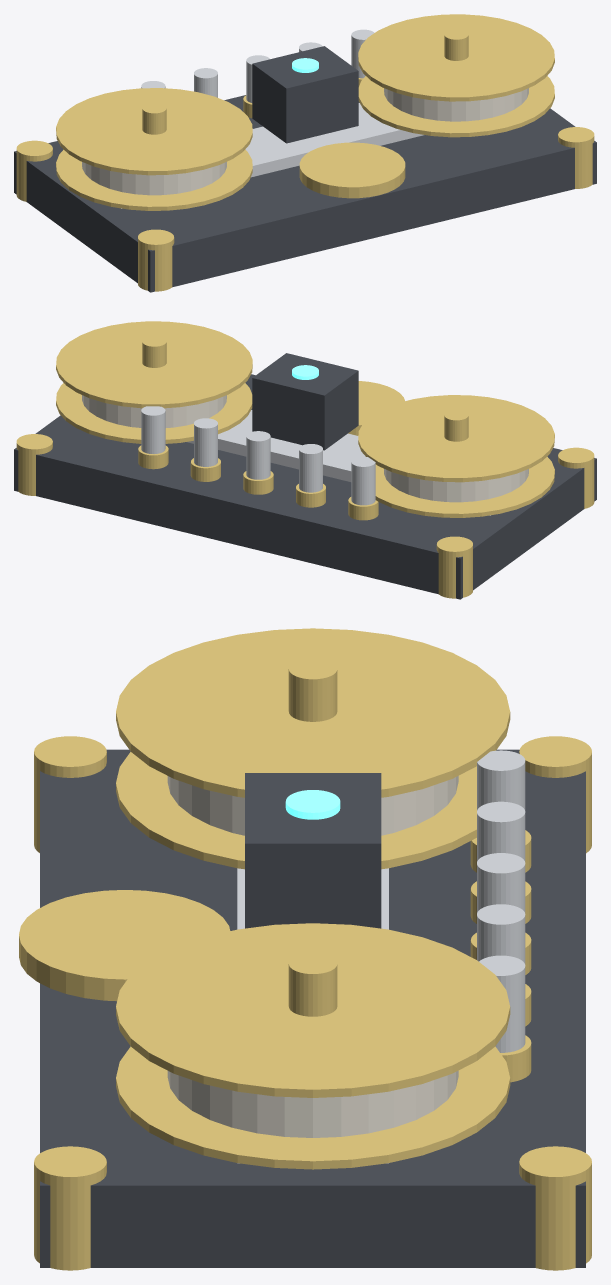
Rendered from turing_machine.glb.
3 views of the same model, one above another, from view 1: azimuth 30°, elevation 25°; view 2: azimuth 150°, elevation 25°; view 3: azimuth 270°, elevation 25° (orthographic). The views are drawn at different scales.
Visible parts, largest first — view 1: TuringChassis_Base, TakeupReel_Flange_68, SupplyReel_Flange_68, ReadWriteHead_Housing, GenevaDriveGear, TakeupReel_Flange_42, SupplyReel_Flange_42, TapeGuideBed, TakeupReel_PaperRoll, SupplyReel_PaperRoll, Bumper_-1_-1, Bumper_1_-1 (+6 smaller); view 2: TuringChassis_Base, SupplyReel_Flange_68, TakeupReel_Flange_68, ReadWriteHead_Housing, SupplyReel_Flange_42, TakeupReel_Flange_42, TapeGuideBed, SupplyReel_PaperRoll, TakeupReel_PaperRoll, Bumper_-1_1, Bumper_1_1, GenevaDriveGear (+13 smaller); view 3: TuringChassis_Base, TakeupReel_Flange_68, SupplyReel_Flange_68, ReadWriteHead_Housing, TakeupReel_Flange_42, GenevaDriveGear, SupplyReel_Flange_42, TakeupReel_PaperRoll, Bumper_1_-1, Bumper_1_1, SupplyReel_PaperRoll, Bumper_-1_-1 (+11 smaller).
Part boxes in pixels (x1,y1,x2,y2): TuringChassis_Base: [14, 95, 596, 292]; TakeupReel_Flange_68: [358, 14, 554, 101]; SupplyReel_Flange_68: [56, 88, 252, 175]; ReadWriteHead_Housing: [252, 46, 358, 143]; GenevaDriveGear: [299, 142, 405, 198]; TakeupReel_Flange_42: [358, 76, 554, 137]; SupplyReel_Flange_42: [56, 149, 252, 210]; TapeGuideBed: [120, 103, 423, 208]; TakeupReel_PaperRoll: [384, 88, 528, 121]; SupplyReel_PaperRoll: [82, 162, 226, 195]; Bumper_-1_-1: [138, 229, 174, 291]; Bumper_1_-1: [558, 127, 594, 188]; TuringChassis_Base: [14, 374, 596, 599]; SupplyReel_Flange_68: [358, 395, 554, 482]; TakeupReel_Flange_68: [56, 321, 252, 408]; ReadWriteHead_Housing: [252, 353, 358, 450]; SupplyReel_Flange_42: [375, 456, 554, 517]; TakeupReel_Flange_42: [56, 383, 252, 443]; TapeGuideBed: [187, 410, 490, 515]; SupplyReel_PaperRoll: [384, 469, 528, 502]; TakeupReel_PaperRoll: [82, 395, 226, 427]; Bumper_-1_1: [436, 536, 472, 598]; Bumper_1_1: [16, 434, 52, 495]; GenevaDriveGear: [348, 381, 404, 435]; TuringChassis_Base: [40, 749, 585, 1267]; TakeupReel_Flange_68: [116, 923, 510, 1097]; SupplyReel_Flange_68: [116, 628, 510, 797]; ReadWriteHead_Housing: [245, 773, 381, 928]; TakeupReel_Flange_42: [116, 1046, 510, 1169]; GenevaDriveGear: [19, 890, 230, 1001]; SupplyReel_Flange_42: [116, 752, 476, 869]; TakeupReel_PaperRoll: [167, 1070, 458, 1137]; Bumper_1_-1: [34, 1146, 106, 1270]; Bumper_1_1: [519, 1146, 591, 1270]; SupplyReel_PaperRoll: [167, 776, 458, 835]; Bumper_-1_-1: [34, 736, 106, 852].
Size of the model in its own units: 3.6 by 0.905 by 1.89.
